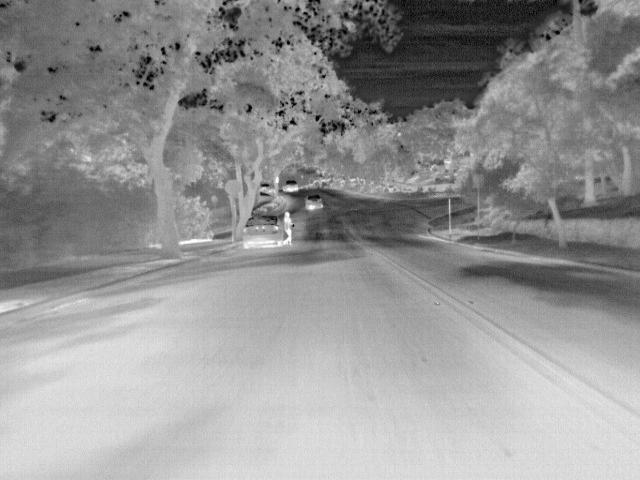car: (244, 213, 282, 246), (303, 193, 323, 212), (284, 180, 299, 192)
person: (282, 211, 295, 245)
